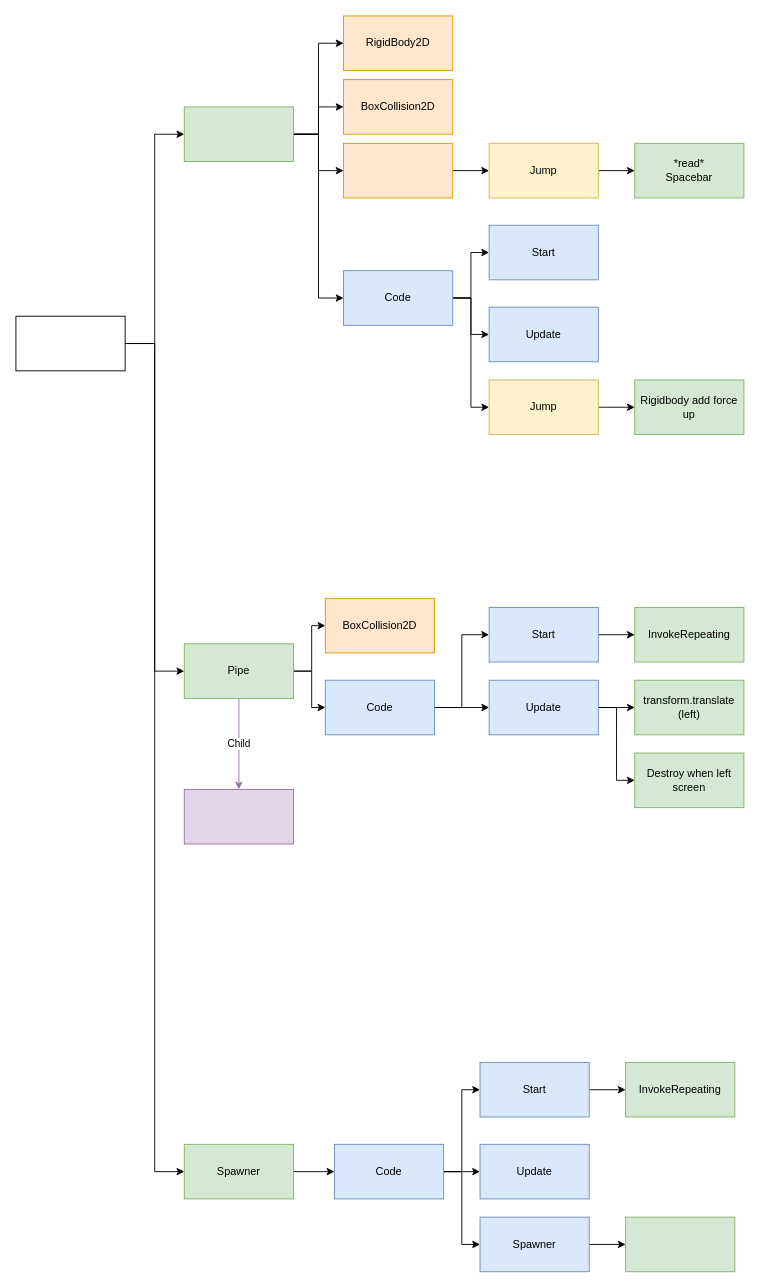
Image size: 760x1288. Some labels were removed from this diagram. Each missing label, with the centre of its shape:
"Checker" goes at (238,816).
"GameObject" goes at (70,343).
"InputSystem" goes at (398,170).
"Instantiate random y pos" goes at (680,1244).
"Player" goes at (238,134).
